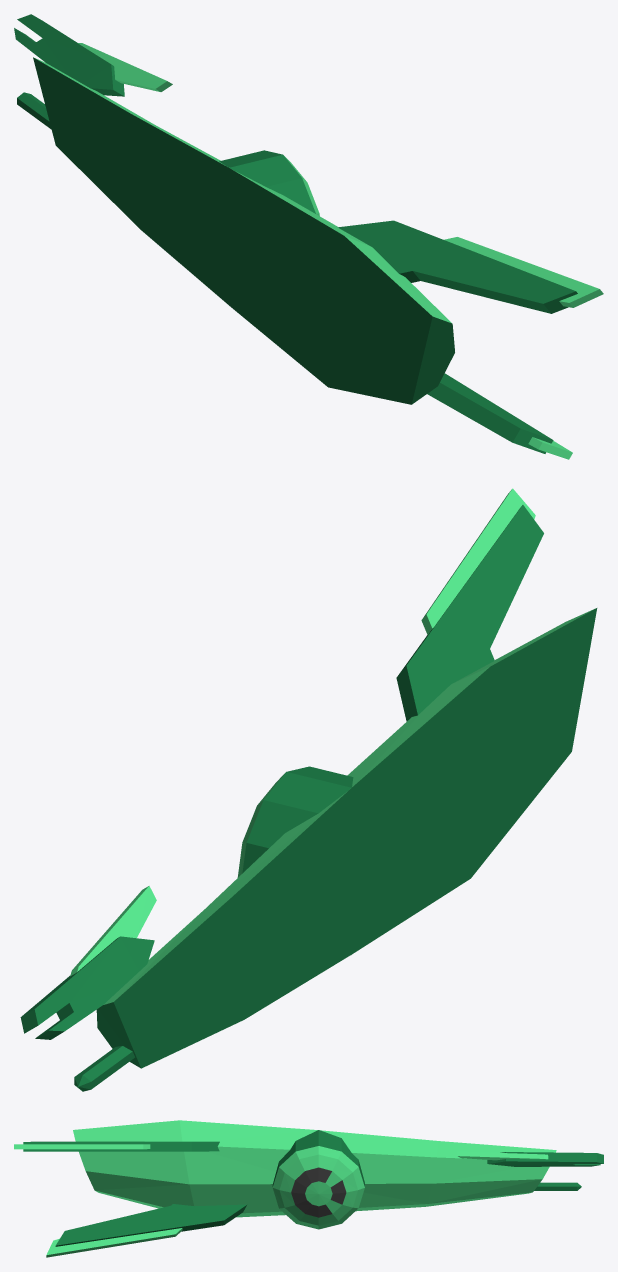
Rendered from Weapon.FBX.
3 renders of one model, top to bottom at view 1: azimuth 30°, elevation 25°; view 2: azimuth 150°, elevation 25°; view 3: azimuth 270°, elevation 25°, orthographic. The views are drawn at different scales.
Parts seen in each view (by area): view 1: VIFS001, VIFS002; view 2: VIFS001, VIFS002; view 3: VIFS002, VIFS001, VIFS003.
Part boxes in pixels (box(x1,y1,x2,y2)): VIFS001: box(14, 14, 577, 453); VIFS002: box(35, 43, 603, 459); VIFS001: box(20, 505, 597, 1091); VIFS002: box(70, 488, 595, 1004); VIFS002: box(14, 1120, 556, 1257); VIFS001: box(23, 1130, 603, 1246); VIFS003: box(291, 1167, 346, 1217).
Size of the model in its own units: 0.297 by 0.438 by 2.04.
